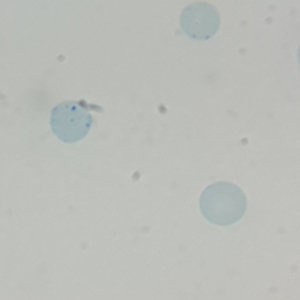erythrocyte: (197, 180, 249, 227)
punctate reticulocyte: (48, 99, 96, 145), (178, 1, 222, 42)
